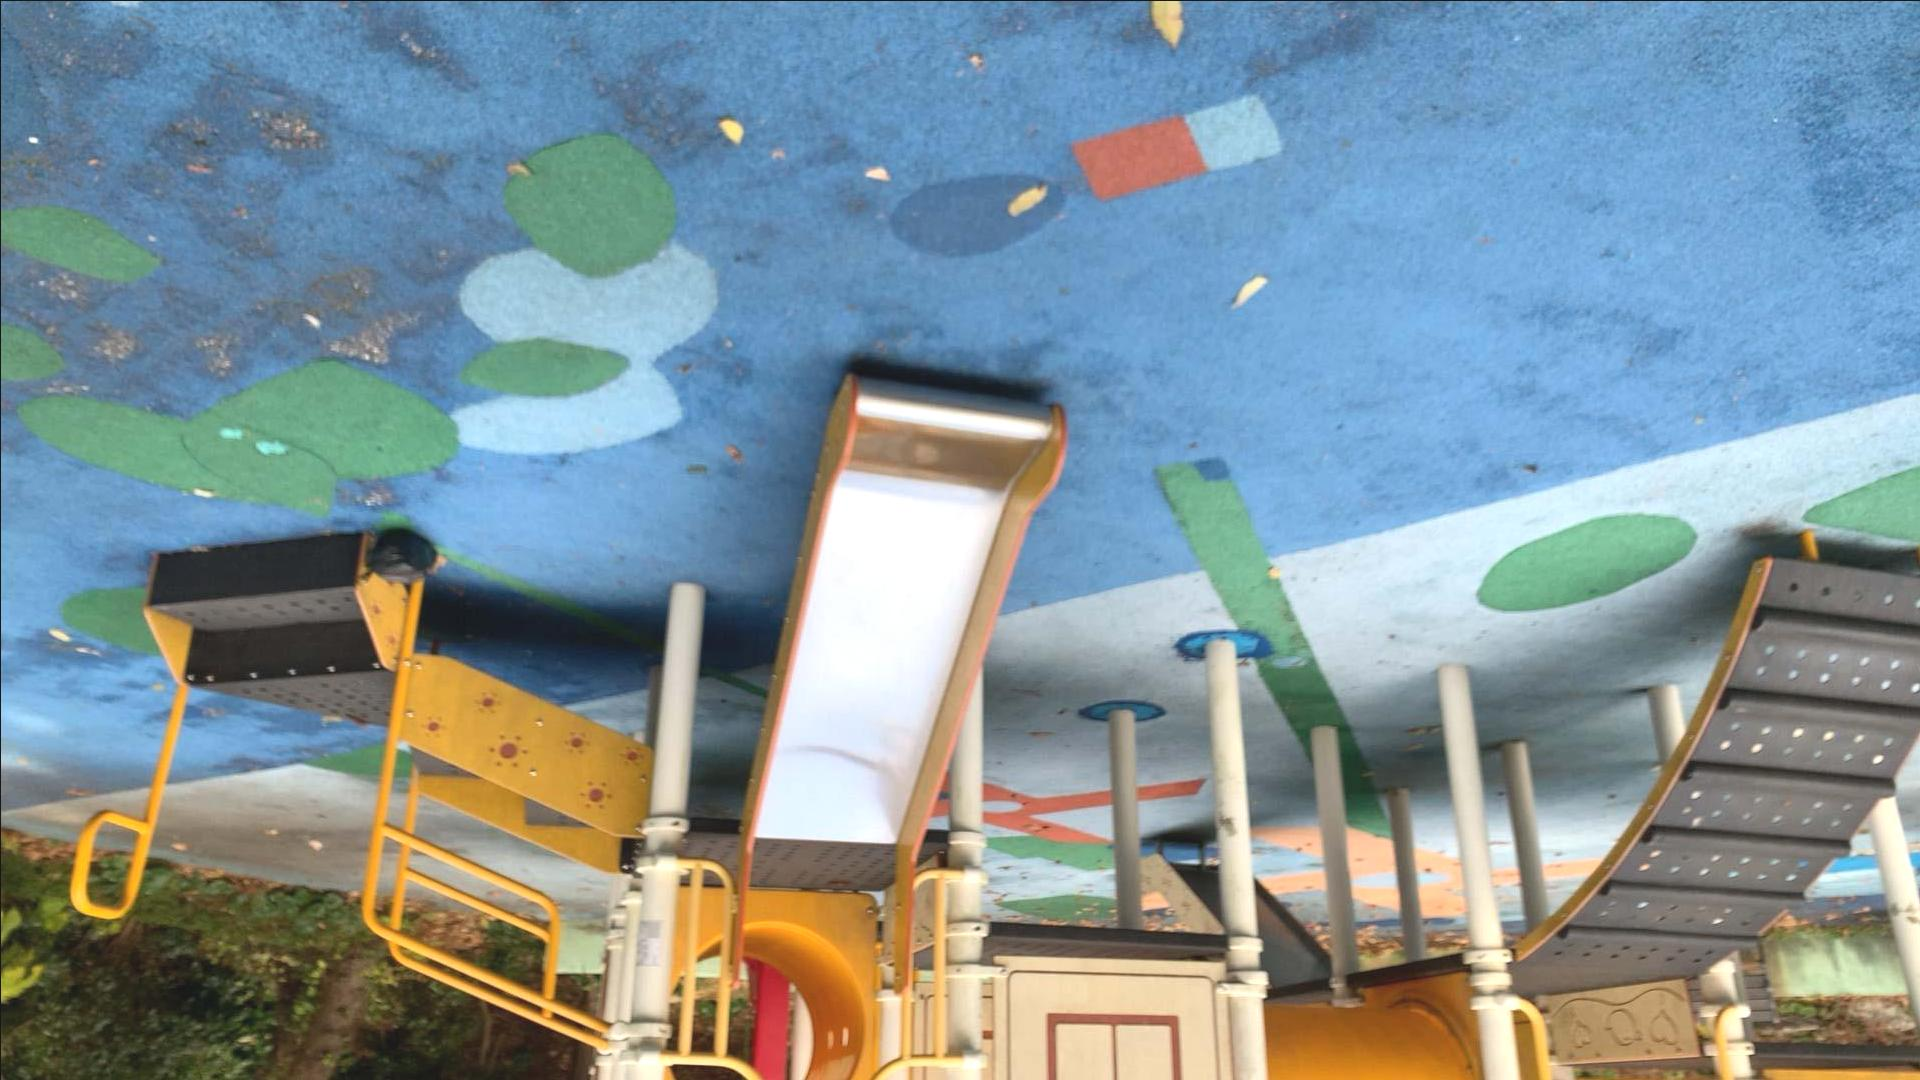black_bag: (353, 520, 440, 599)
